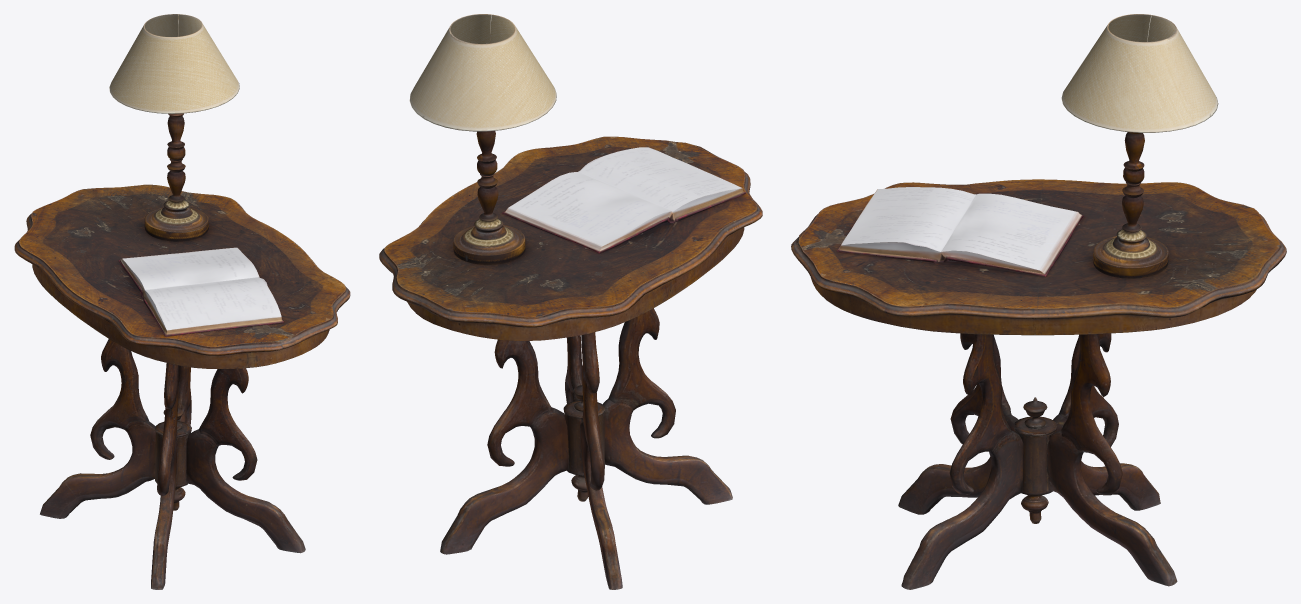
Rendered from table_from_a_gothic_library.glb.
3 views of the same model, side by side, from view 1: azimuth 30°, elevation 25°; view 2: azimuth 150°, elevation 25°; view 3: azimuth 270°, elevation 25° (orthographic). The views are drawn at different scales.
Parts seen in each view (by area): view 1: Object_4; view 2: Object_4; view 3: Object_4.
Boxes of the visible parts, <box> form: Object_4: <box>14,14,350,589</box>; Object_4: <box>379,14,762,589</box>; Object_4: <box>791,14,1286,589</box>.
Bounding box in the file's own units: 0.7023 × 1.37 × 1.12.
2 materials, 1 textured.
